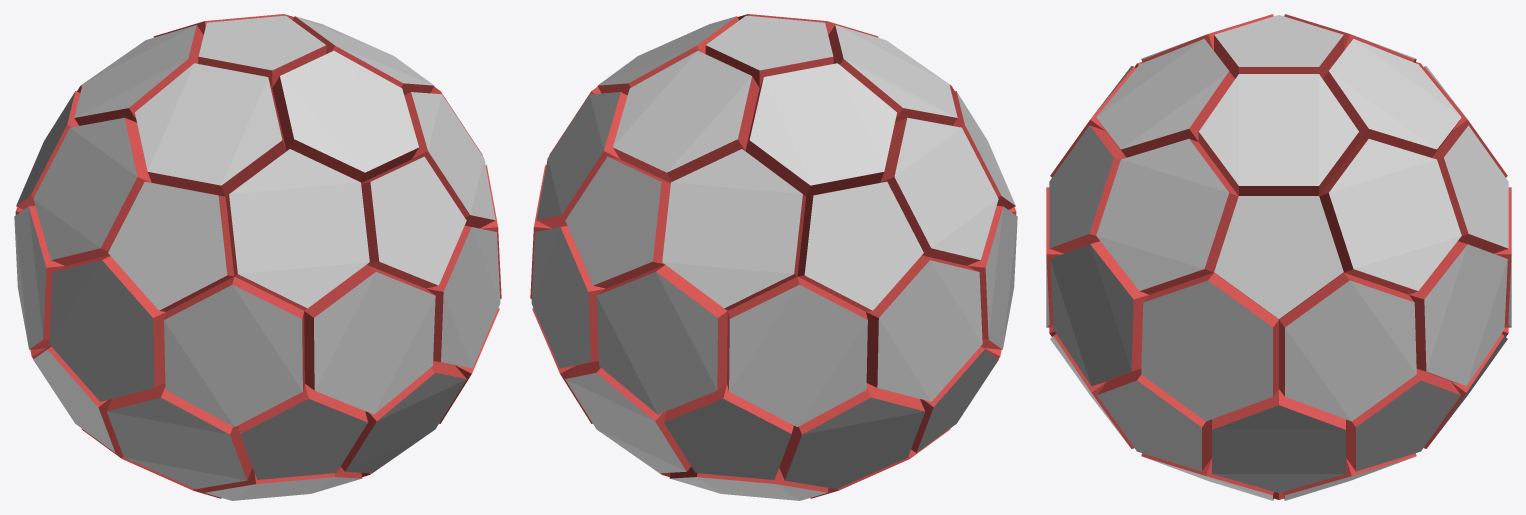
Rendered from spherestandin.dae.
The picture shows the model from 3 angles, left to right: view 1: azimuth 30°, elevation 25°; view 2: azimuth 150°, elevation 25°; view 3: azimuth 270°, elevation 25°; orthographic projection.
Visible parts, largest first — view 1: Icosphere; view 2: Icosphere; view 3: Icosphere.
Part boxes in pixels (x1,y1,x2,y2): Icosphere: [14, 14, 501, 500]; Icosphere: [530, 14, 1017, 500]; Icosphere: [1046, 14, 1511, 500].
Size of the model in its own units: 2.02 by 1.93 by 1.96.
